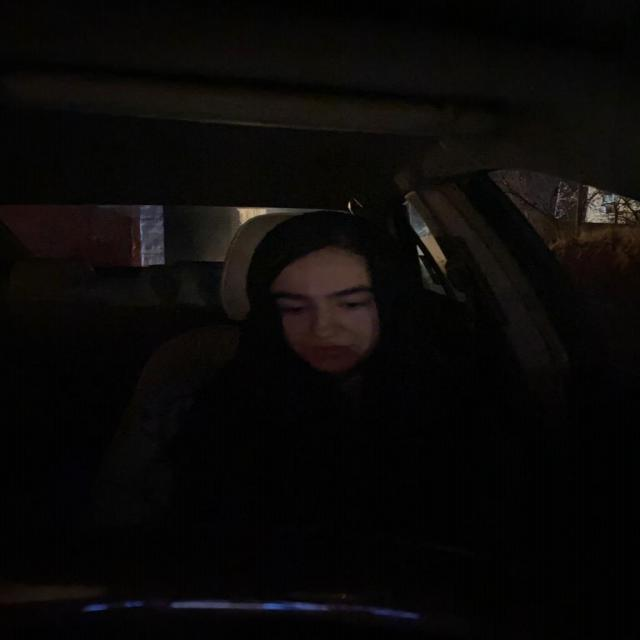person: (234, 211, 415, 387)
